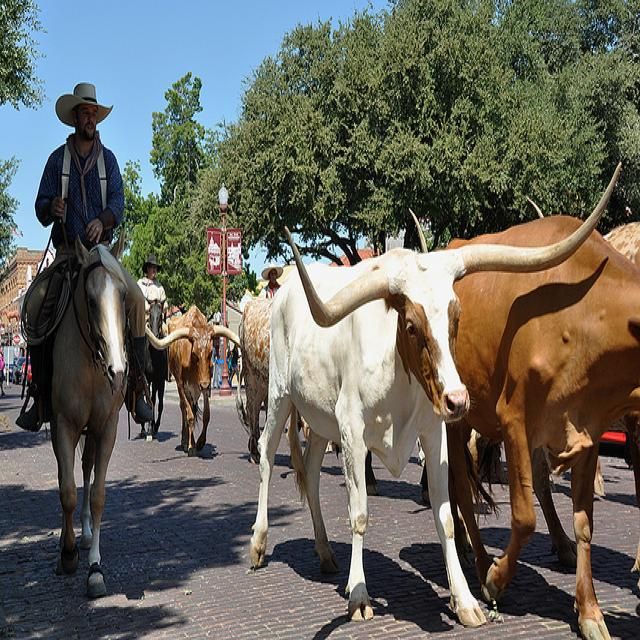Vehicle: (12, 357, 27, 384), (6, 365, 15, 381)
